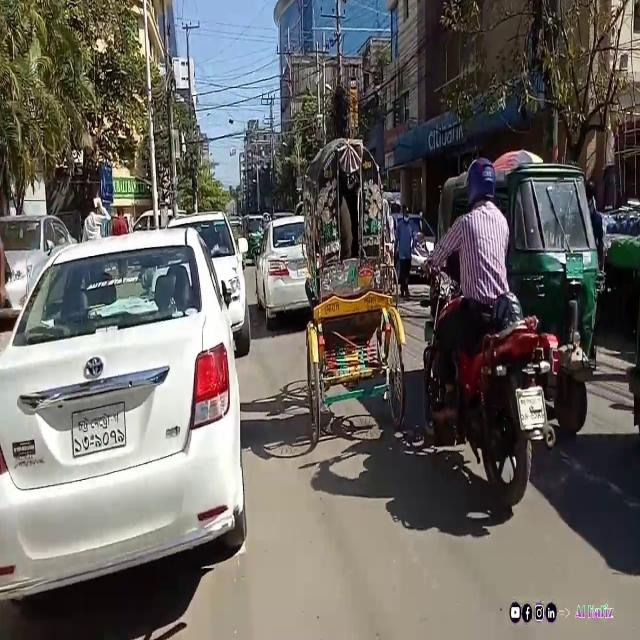white: (0, 224, 246, 630), (259, 212, 333, 322)
